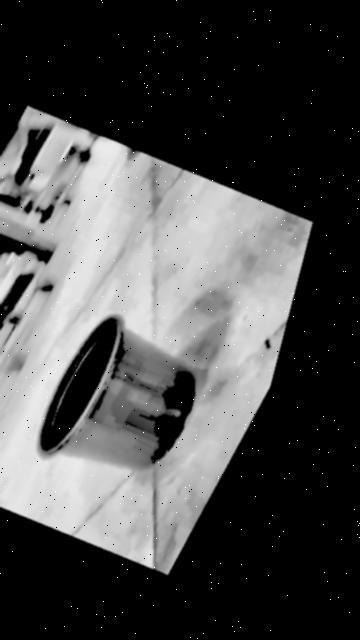pot: (36, 315, 195, 469)
